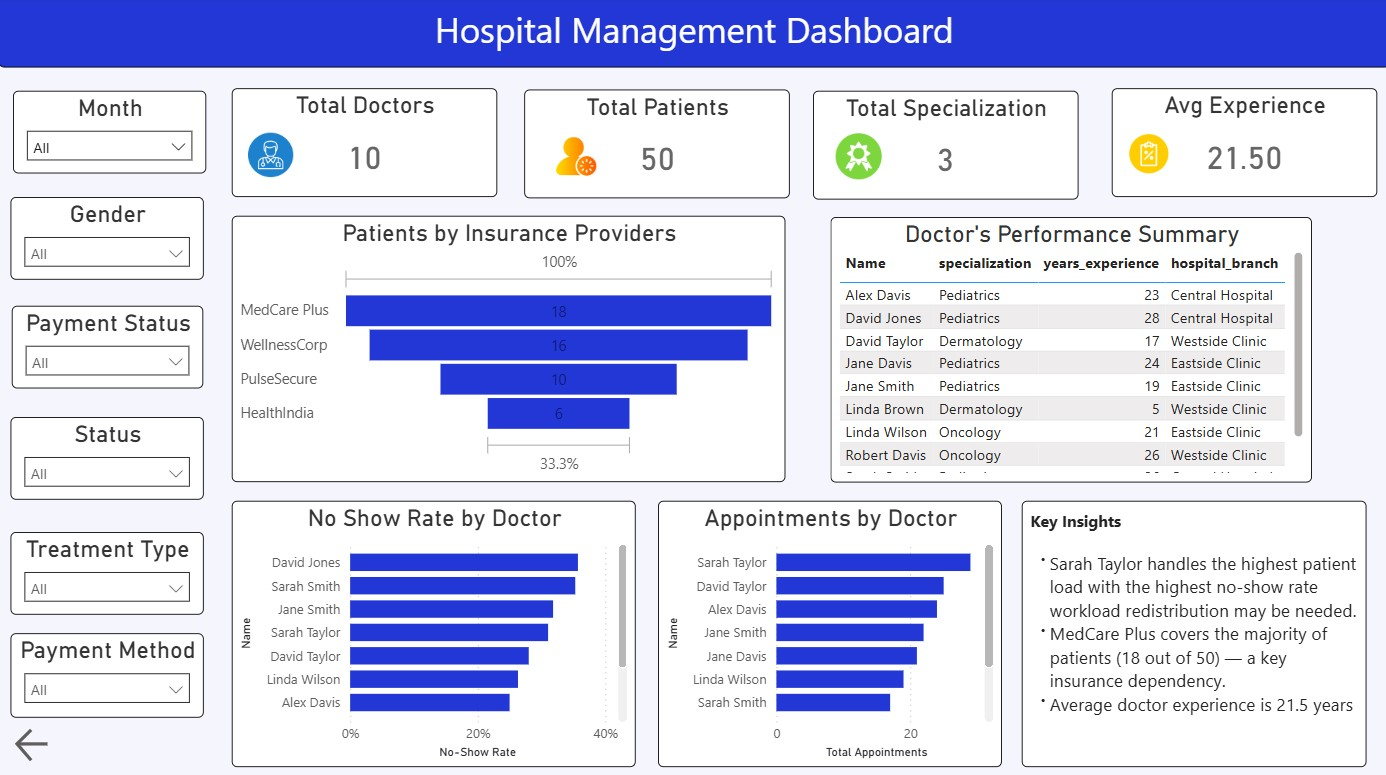

The page's visual inventory and layout, read from the dashboard file:
{"tool":"powerbi","page":{"name":"Doctors & Patients","canvas":[1280,720],"ordinal":2},"visuals":[{"type":"textbox","box":[0,0,1280,65],"z":0},{"type":"card","title":"Total Doctors","fields":{"Values":["appointments.Count of Doctors"]},"box":[215,83.8,243.8,100],"z":1000},{"type":"card","title":"Total Specialization","fields":{"Values":["Count(doctors.specialization)"]},"box":[748.8,86.2,243.8,100],"z":2000},{"type":"card","title":"Total Patients","fields":{"Values":["patients.Total Patients"]},"box":[483.8,85,243.8,100],"z":3000},{"type":"card","title":"Avg Experience","fields":{"Values":["appointments.Avg Experience"]},"box":[1023.8,83.8,243.8,100],"z":4000},{"type":"tableEx","title":"Doctor''s Performance Summary","fields":{"Values":["doctors.Name","doctors.specialization","doctors.years_experience","doctors.hospital_branch"]},"box":[765,202.5,442.5,243.8],"z":5000},{"type":"clusteredBarChart","title":"No Show Rate by Doctor","fields":{"Y":["appointments.No-Show Rate"],"Category":["doctors.Merged Name"]},"box":[215,462.5,371.2,245],"z":6000},{"type":"slicer","title":"Status","fields":{"Values":["appointments.status"]},"box":[11.2,386.2,177.5,76.2],"z":7000},{"type":"slicer","title":"Month","fields":{"Values":["billing.Month"]},"box":[13.8,86.2,177.5,76.2],"z":8000},{"type":"slicer","title":"Payment Status","fields":{"Values":["billing.payment_status"]},"box":[12.5,283.8,176.2,76.2],"z":9000},{"type":"slicer","title":"Payment Method","fields":{"Values":["billing.payment_method"]},"box":[11.2,585,177.5,77.5],"z":10000},{"type":"slicer","title":"Treatment Type","fields":{"Values":["treatments.treatment_type"]},"box":[11.2,491.2,177.5,76.2],"z":11000},{"type":"slicer","title":"Gender","fields":{"Values":["patients.gender"]},"box":[11.2,183.8,177.5,76.2],"z":12000},{"type":"image","box":[230,118.8,41.2,53.8],"z":13000},{"type":"image","box":[1040,125,36.2,37.5],"z":14000},{"type":"image","box":[767.5,125,47.5,42.5],"z":15000},{"type":"image","box":[507.5,125,47.5,42.5],"z":16000},{"type":"clusteredBarChart","title":"Appointments by Doctor","fields":{"Category":["doctors.Merged Name"],"Y":["appointments.Total Appointments"]},"box":[606.2,462.5,316.2,245],"z":17000},{"type":"funnel","title":"Patients by Insurance Providers","fields":{"Category":["patients.insurance_provider"],"Y":["patients.Total Patients"]},"box":[215,201.2,508.8,245],"z":18000},{"type":"textbox","box":[940.8,462.9,317,244.7],"z":19000},{"type":"actionButton","box":[11.2,667.5,100,40],"z":20000}]}

Visuals, with their boxes in screenshot pixels (x1, y1, x2, y2), scaled from the page's 1280x720 canvas onto the 1386x775 screenshot:
textbox: {"left": 0, "top": 0, "right": 1385, "bottom": 70}
"Total Doctors" card: {"left": 233, "top": 90, "right": 497, "bottom": 198}
"Total Specialization" card: {"left": 811, "top": 93, "right": 1075, "bottom": 200}
"Total Patients" card: {"left": 524, "top": 91, "right": 788, "bottom": 199}
"Avg Experience" card: {"left": 1109, "top": 90, "right": 1373, "bottom": 198}
"Doctor''s Performance Summary" tableEx: {"left": 828, "top": 218, "right": 1307, "bottom": 480}
"No Show Rate by Doctor" clusteredBarChart: {"left": 233, "top": 498, "right": 635, "bottom": 762}
"Status" slicer: {"left": 12, "top": 416, "right": 204, "bottom": 498}
"Month" slicer: {"left": 15, "top": 93, "right": 207, "bottom": 175}
"Payment Status" slicer: {"left": 14, "top": 305, "right": 204, "bottom": 388}
"Payment Method" slicer: {"left": 12, "top": 630, "right": 204, "bottom": 713}
"Treatment Type" slicer: {"left": 12, "top": 529, "right": 204, "bottom": 611}
"Gender" slicer: {"left": 12, "top": 198, "right": 204, "bottom": 280}
image: {"left": 249, "top": 128, "right": 294, "bottom": 186}
image: {"left": 1126, "top": 135, "right": 1165, "bottom": 175}
image: {"left": 831, "top": 135, "right": 882, "bottom": 180}
image: {"left": 550, "top": 135, "right": 601, "bottom": 180}
"Appointments by Doctor" clusteredBarChart: {"left": 656, "top": 498, "right": 999, "bottom": 762}
"Patients by Insurance Providers" funnel: {"left": 233, "top": 217, "right": 784, "bottom": 480}
textbox: {"left": 1019, "top": 498, "right": 1362, "bottom": 762}
actionButton: {"left": 12, "top": 718, "right": 120, "bottom": 762}
